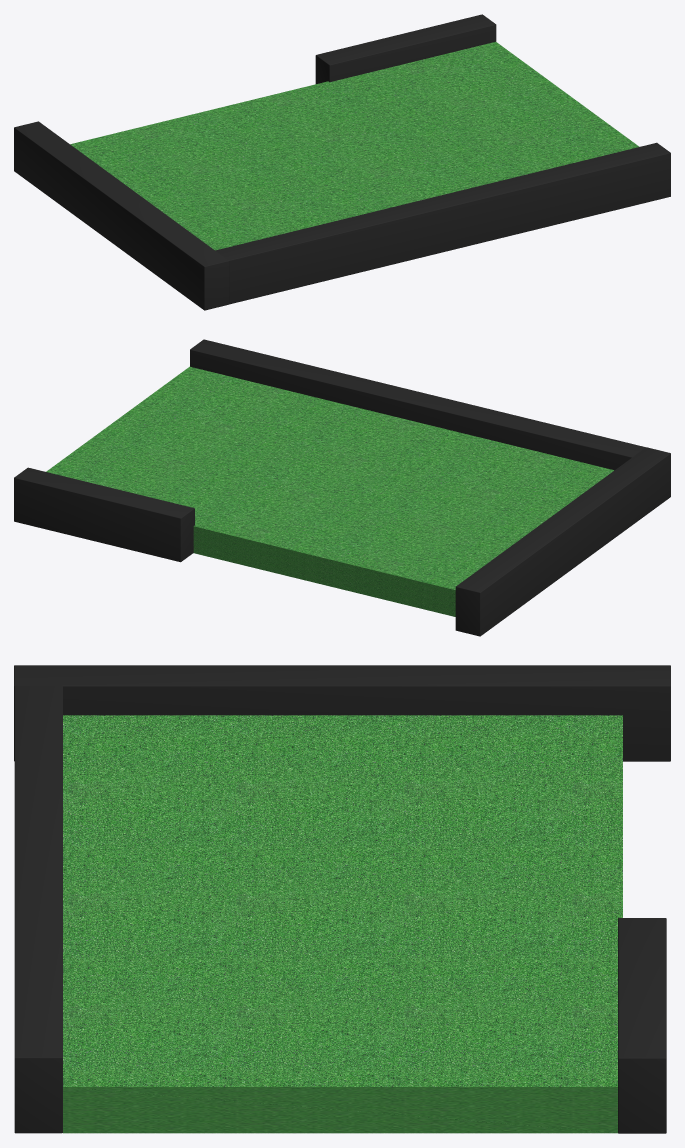
File: L_TurnSec.fbx
3 views of the same model, one above another, from view 1: azimuth 30°, elevation 25°; view 2: azimuth 150°, elevation 25°; view 3: azimuth 270°, elevation 25° (orthographic). The views are drawn at different scales.
Parts seen in each view (by area): view 1: Floor_1, L_Wall, Back, R_Wall; view 2: Floor_1, Back, L_Wall, R_Wall; view 3: Floor_1, Back, L_Wall, R_Wall.
Part boxes in pixels (box(x1,y1,x2,y2)): Floor_1: box(70, 42, 639, 250); L_Wall: box(215, 142, 670, 304); Back: box(14, 121, 229, 310); R_Wall: box(315, 14, 496, 83); Floor_1: box(46, 366, 613, 616); Back: box(455, 447, 670, 636); L_Wall: box(190, 339, 645, 470); R_Wall: box(14, 467, 194, 562); Floor_1: box(63, 715, 622, 1133); Back: box(14, 665, 670, 761); L_Wall: box(14, 685, 62, 1133); R_Wall: box(618, 918, 666, 1133).
Size of the model in its own units: 211 by 19.01 by 149.
Materials: 2 (1 with a texture image).
